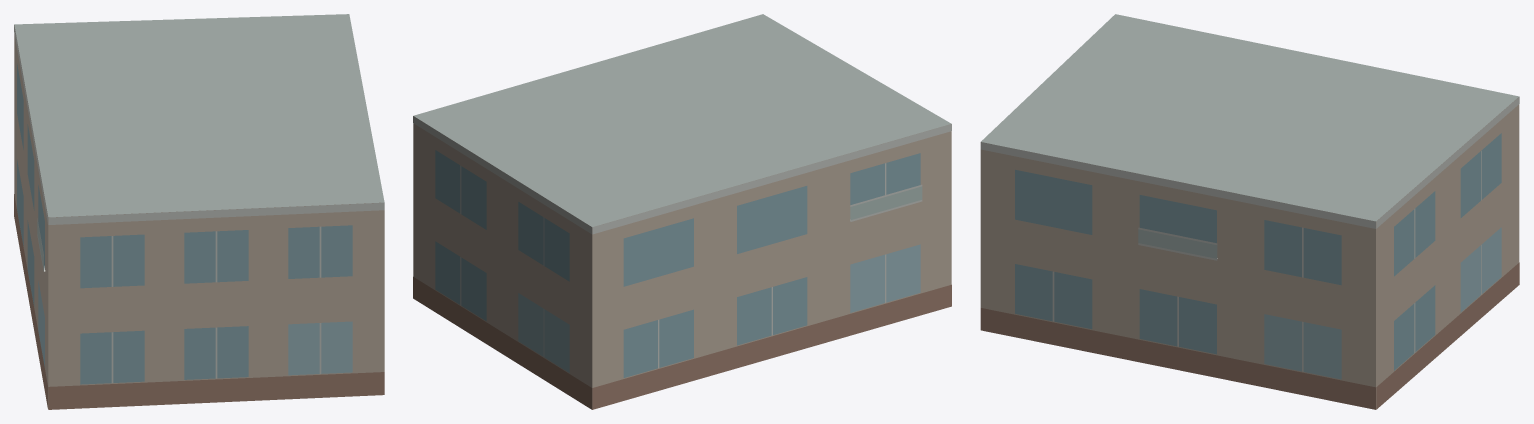
File: survey-upis-32738485.glb
3 renders of one model, left to right at view 1: azimuth 30°, elevation 25°; view 2: azimuth 150°, elevation 25°; view 3: azimuth 270°, elevation 25°, orthographic. The views are drawn at different scales.
Visible parts, largest first — view 1: survey-upis-32738485.tmp; view 2: survey-upis-32738485.tmp; view 3: survey-upis-32738485.tmp.
Boxes of the visible parts, <box> form: survey-upis-32738485.tmp: <box>14,14,384,409</box>; survey-upis-32738485.tmp: <box>413,14,951,409</box>; survey-upis-32738485.tmp: <box>980,14,1519,409</box>.
Bounding box in the file's own units: 14.42 × 6.1 × 15.82.
